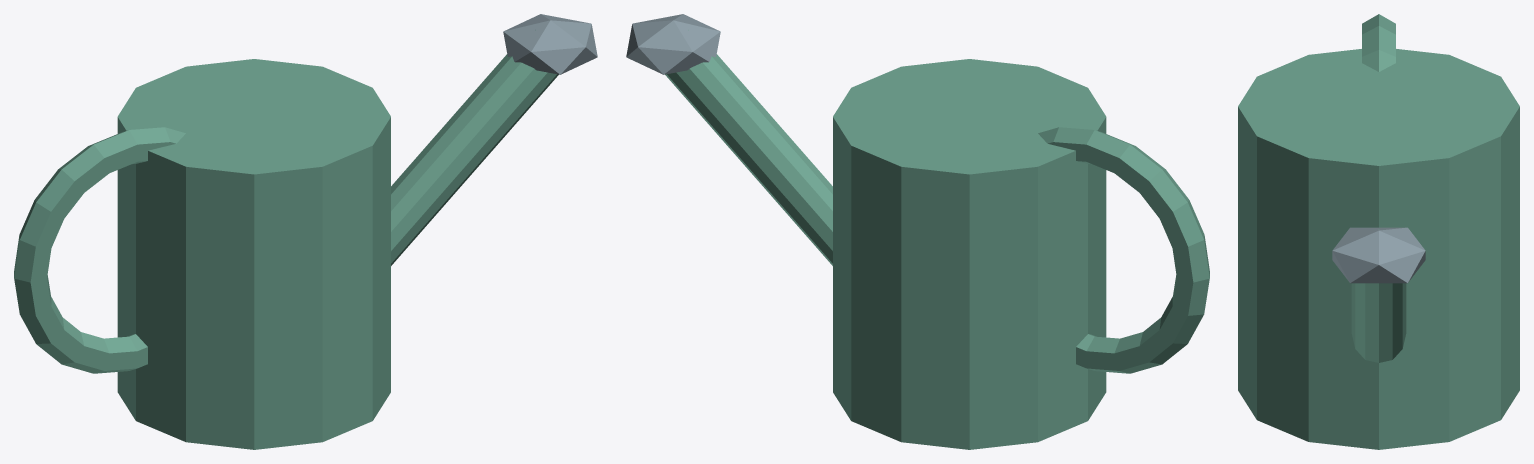
Rendered from watering_can.glb.
3 renders of one model, left to right at view 1: azimuth 30°, elevation 25°; view 2: azimuth 150°, elevation 25°; view 3: azimuth 270°, elevation 25°, orthographic. The views are drawn at different scales.
Visible parts, largest first — view 1: watering_can_000, watering_can_003, watering_can_001, watering_can_002; view 2: watering_can_000, watering_can_003, watering_can_001, watering_can_002; view 3: watering_can_000, watering_can_002, watering_can_001, watering_can_003.
Part boxes in pixels (x1=…): watering_can_000: x1=117, y1=59, x2=390, y2=449; watering_can_003: x1=14, y1=127, x2=185, y2=373; watering_can_001: x1=391, y1=30, x2=558, y2=265; watering_can_002: x1=503, y1=14, x2=597, y2=74; watering_can_000: x1=833, y1=59, x2=1106, y2=449; watering_can_003: x1=1038, y1=127, x2=1209, y2=373; watering_can_001: x1=665, y1=30, x2=832, y2=265; watering_can_002: x1=626, y1=14, x2=720, y2=74; watering_can_000: x1=1238, y1=49, x2=1519, y2=449; watering_can_002: x1=1332, y1=227, x2=1425, y2=283; watering_can_001: x1=1351, y1=229, x2=1406, y2=362; watering_can_003: x1=1362, y1=14, x2=1395, y2=71.
Bounding box in the file's own units: 0.8776 × 0.435 × 0.36.
